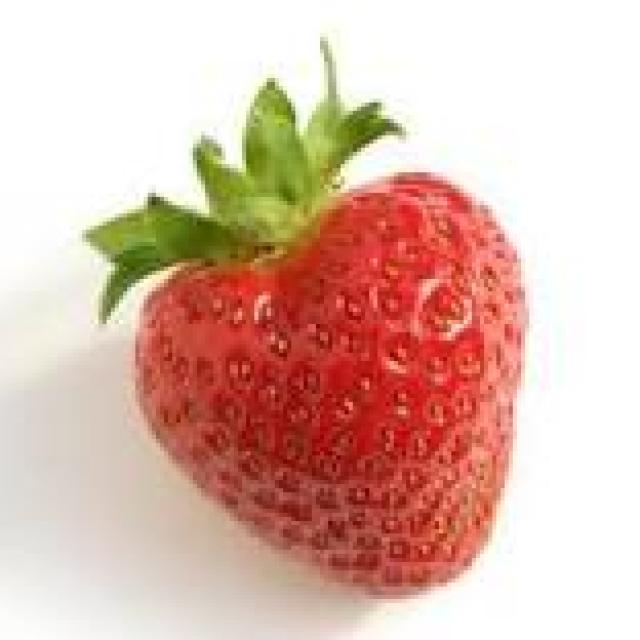srawberry: (82, 25, 550, 603)
